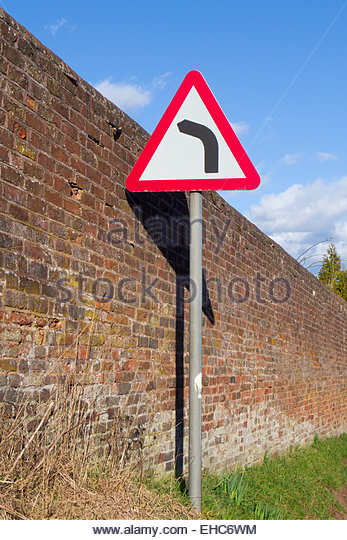Bend_to_left: (122, 68, 264, 195)
